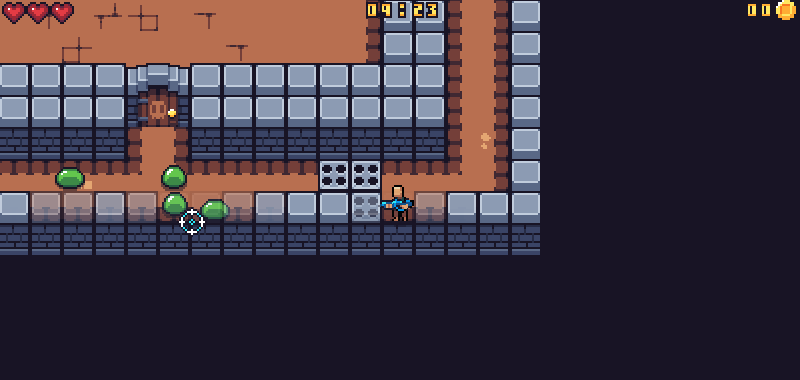door: (122, 61, 195, 131)
enemy_slug: (198, 196, 232, 221), (52, 165, 88, 188), (159, 162, 188, 190), (160, 190, 189, 216)
trap_off: (318, 159, 380, 223)
